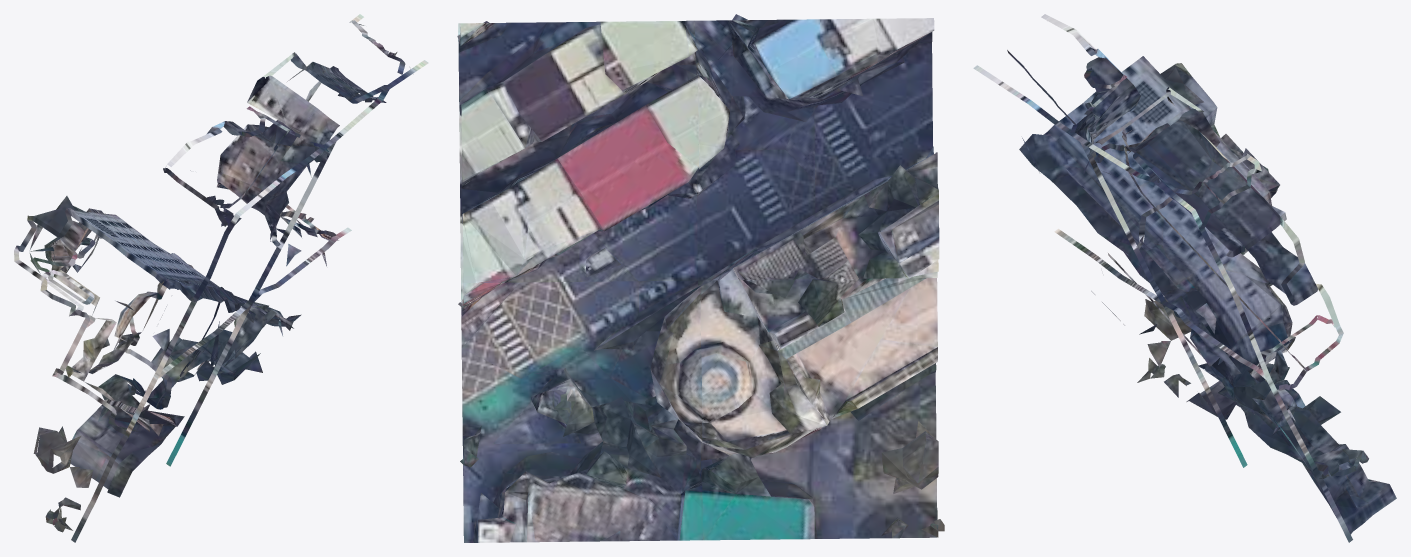
The picture shows the model from 3 angles, left to right: view 1: azimuth 30°, elevation 25°; view 2: azimuth 150°, elevation 25°; view 3: azimuth 270°, elevation 25°; orthographic projection. The views are drawn at different scales.
Size of the model in its own units: 81.74 by 76.41 by 71.76.
Materials: 1 (1 with a texture image).
